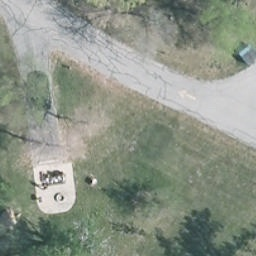car: (22, 73, 50, 118)
